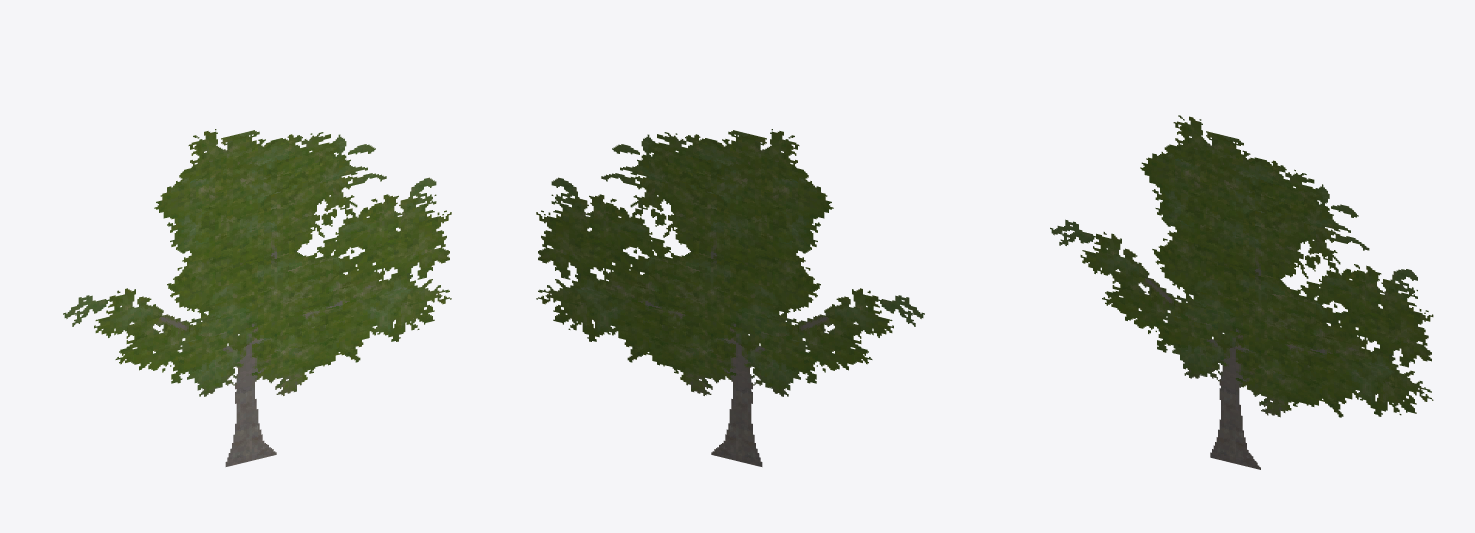
Rendered from Tree_LOD3.glb.
3 renders of one model, left to right at view 1: azimuth 30°, elevation 25°; view 2: azimuth 150°, elevation 25°; view 3: azimuth 330°, elevation 25°, orthographic.
Visible parts, largest first — view 1: Tree_LOD3; view 2: Tree_LOD3; view 3: Tree_LOD3.
Boxes of the visible parts, bbox=[...] form: Tree_LOD3: bbox=[63, 129, 451, 466]; Tree_LOD3: bbox=[536, 129, 924, 466]; Tree_LOD3: bbox=[1050, 115, 1433, 469].
Bounding box in the file's own units: 22.3 × 19.08 × 0.
1 material, 1 textured.
